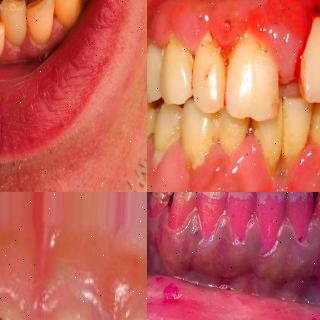Gum Swelling: (153, 0, 320, 84), (147, 134, 320, 192)
calculus: (248, 105, 296, 179), (178, 114, 222, 180), (160, 28, 198, 92), (147, 113, 185, 175), (228, 18, 276, 61), (194, 27, 232, 77), (147, 108, 158, 154)
cavities: (164, 192, 182, 218)
maligned: (290, 17, 320, 107)
